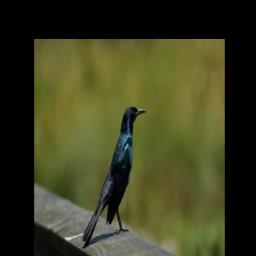Crow: (80, 104, 146, 248)
